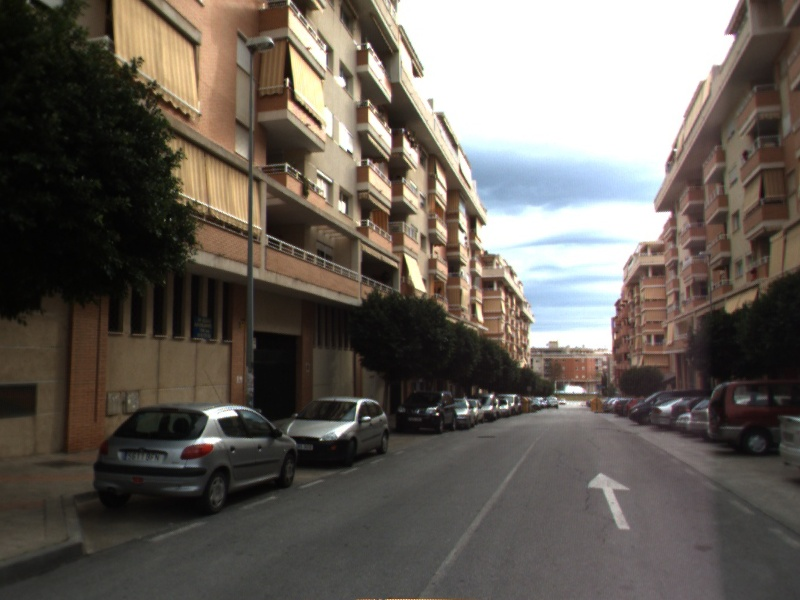STRAIGHT: (583, 470, 633, 531)
